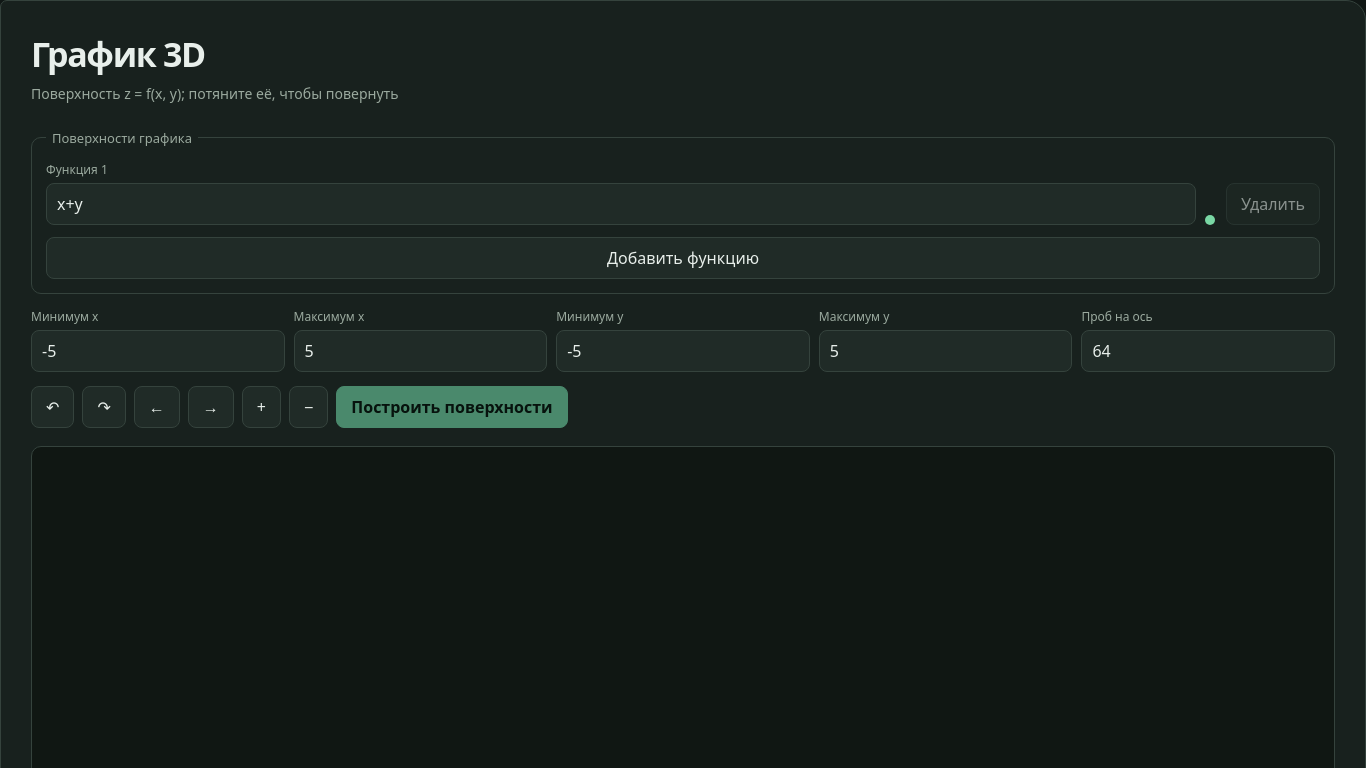
Test: Graph3DView › announces WebGL context loss and leaves controls available
Click the button "Построить поверхности": click(452, 407) [336, 386, 568, 428]
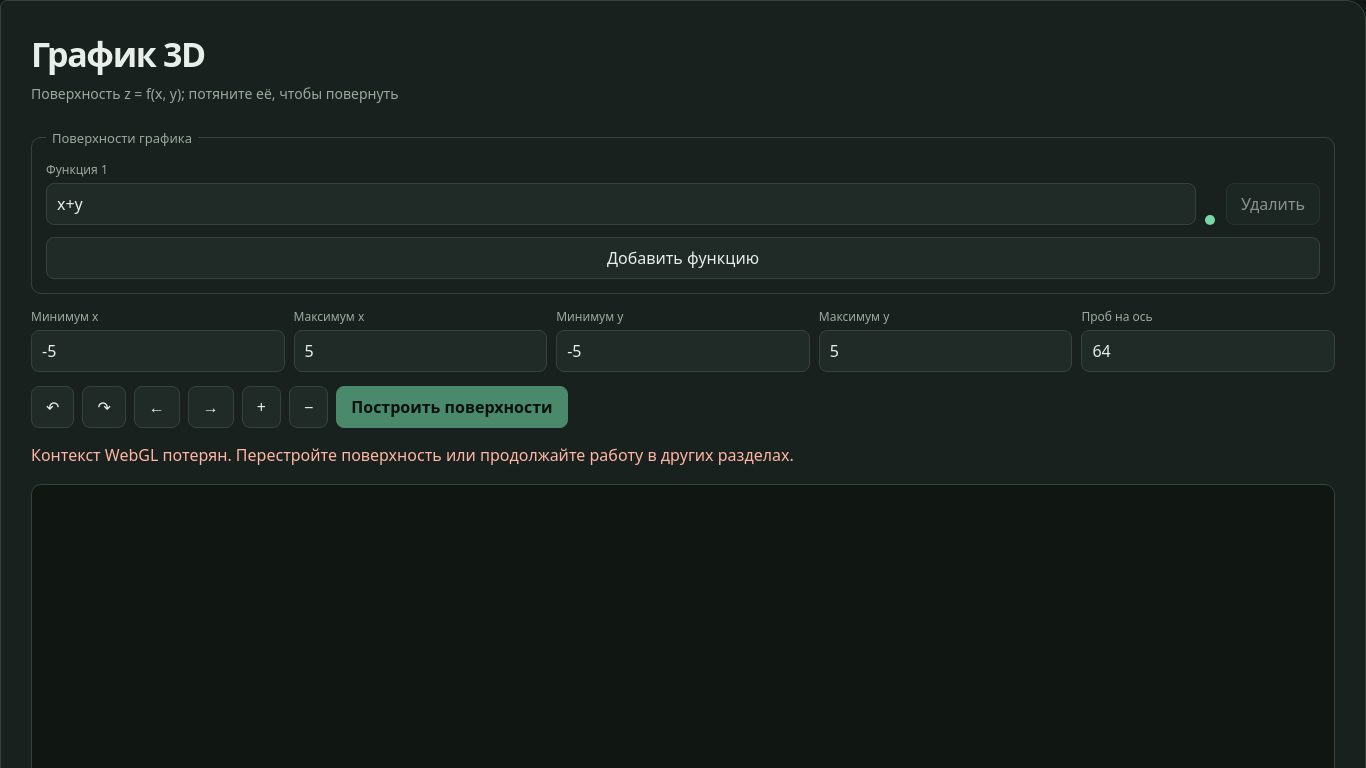
Result: the message shows "WebGL" at [31, 444, 794, 466]
Result: the message shows "Контекст WebGL потерян" at [31, 444, 794, 466]
